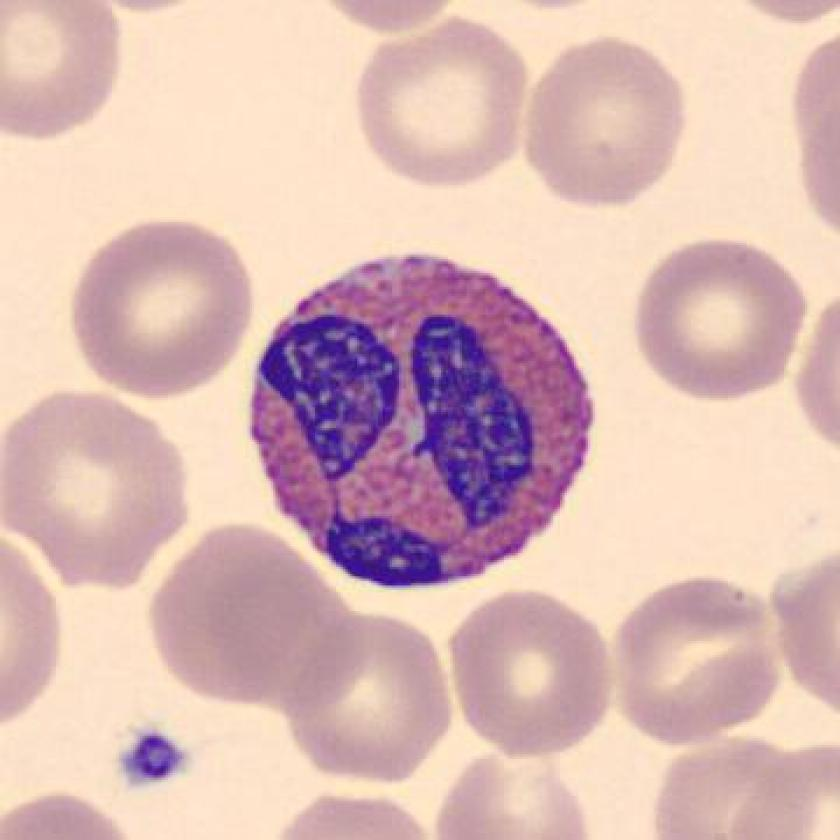eosinophil: (237, 242, 612, 600)
